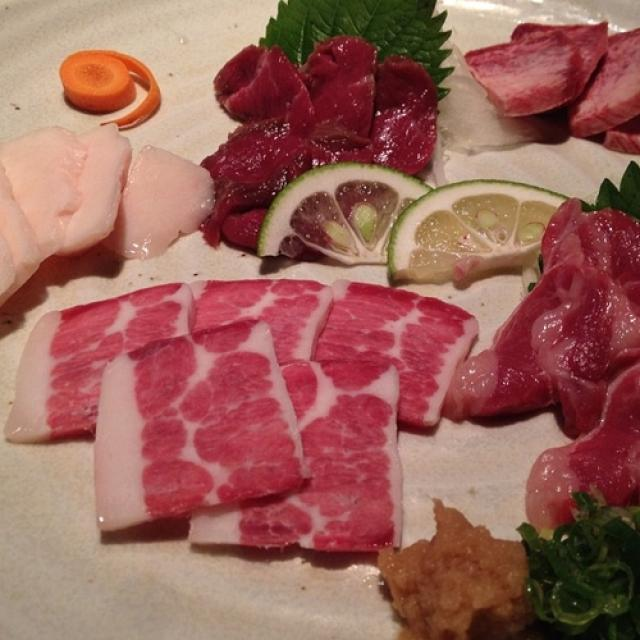刺身生食: (5, 13, 630, 626)
